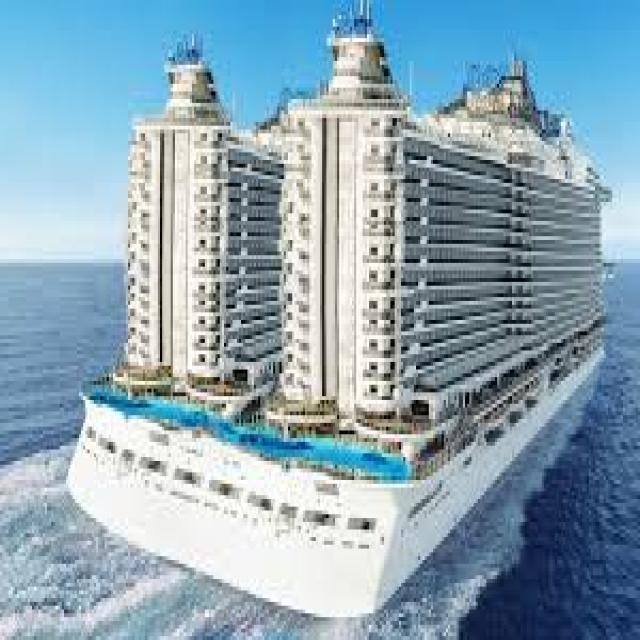PassengerShip: (52, 55, 616, 599)
